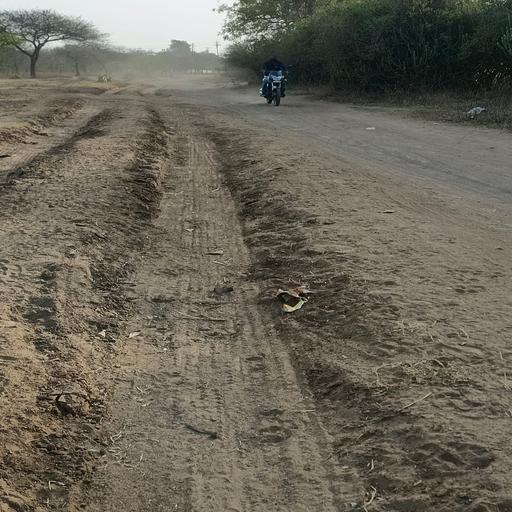vehicle_track: (82, 108, 358, 512), (197, 94, 512, 227), (0, 101, 113, 180)
